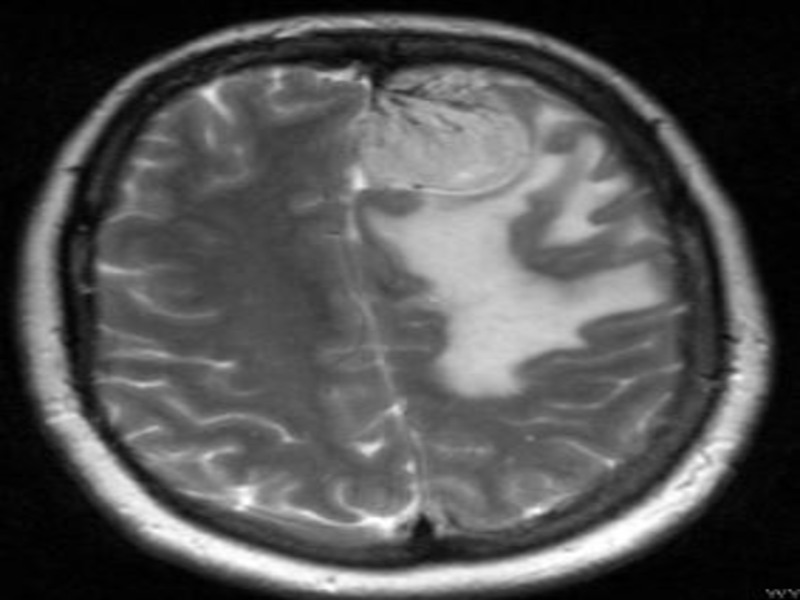tumor: (343, 154, 627, 407)
